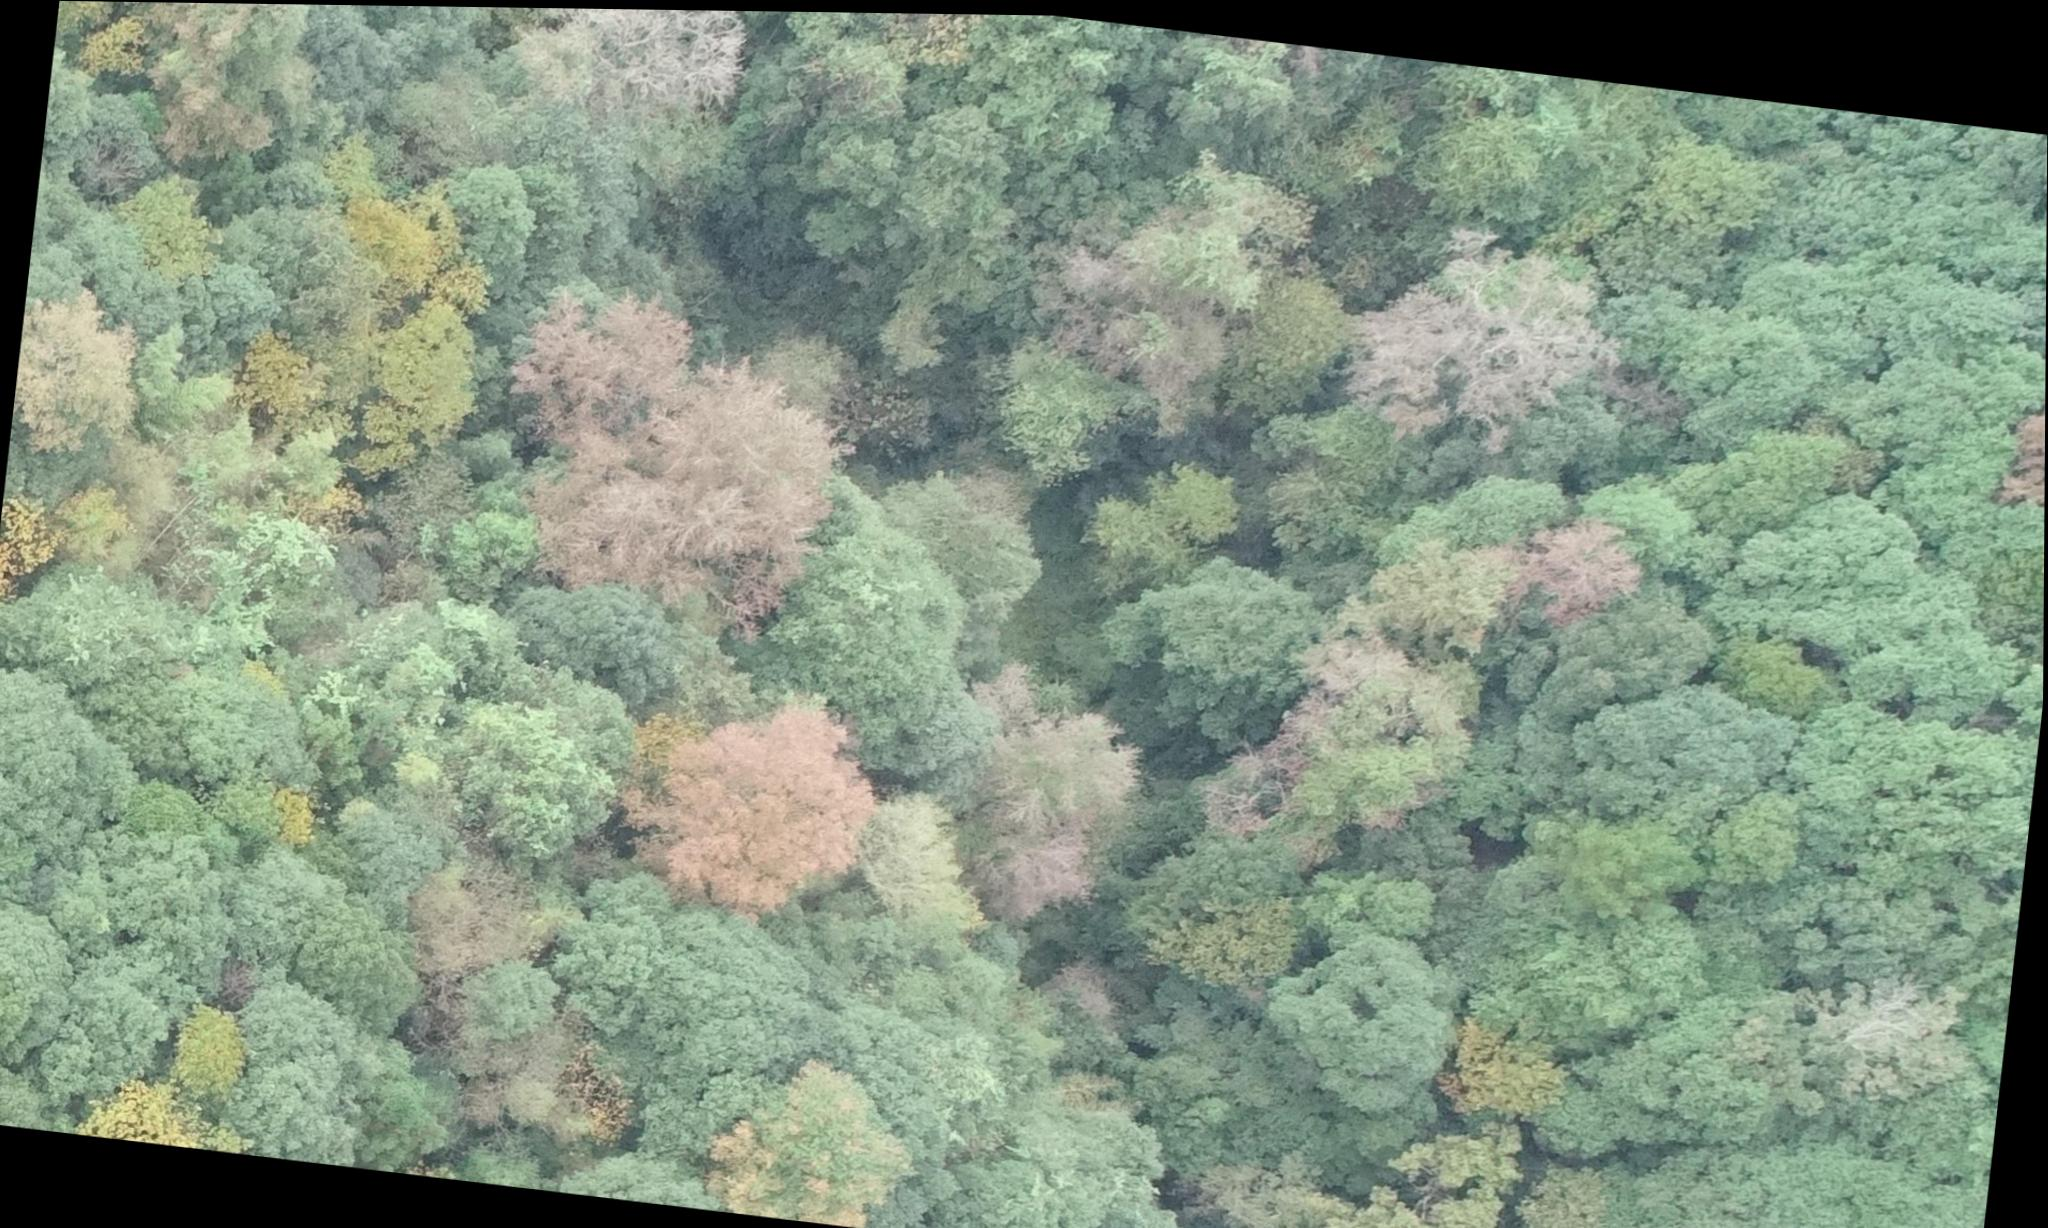dead: (1326, 224, 1652, 450), (504, 6, 770, 137)
heavy: (472, 272, 862, 652), (626, 658, 892, 960), (1476, 493, 1669, 621), (1979, 376, 2047, 523)
light: (918, 633, 1181, 956)
